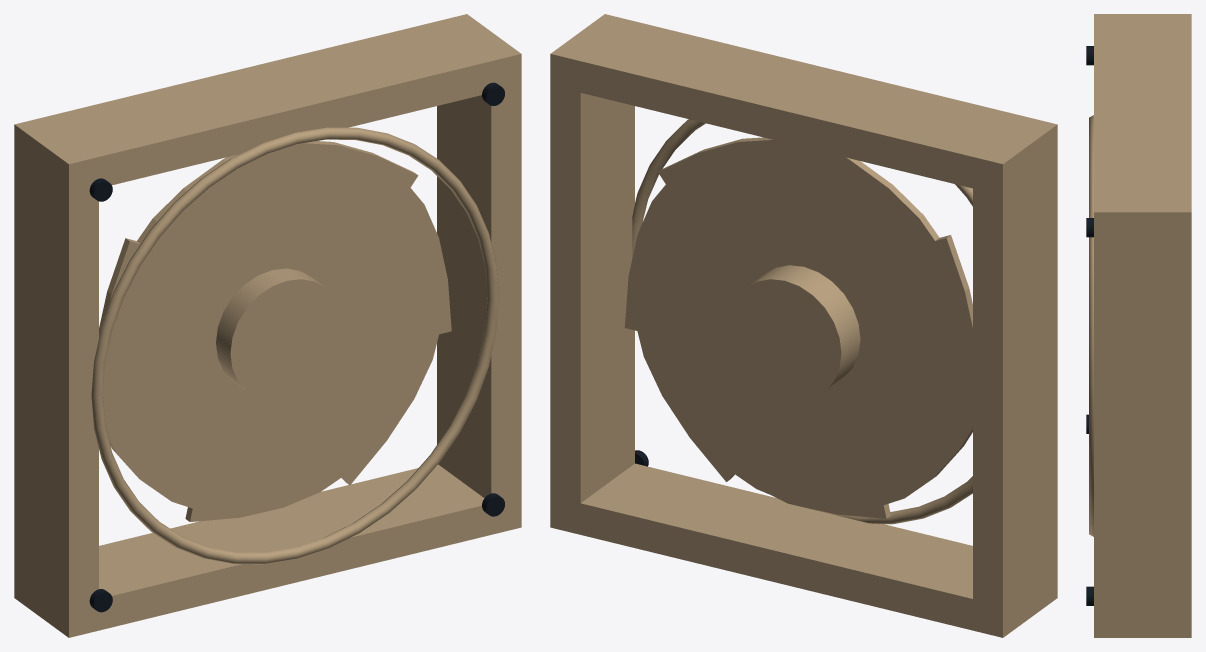
Rendered from retail-noctua-nf-a12x25-g2-pwm.glb.
3 renders of one model, left to right at view 1: azimuth 30°, elevation 25°; view 2: azimuth 150°, elevation 25°; view 3: azimuth 270°, elevation 25°, orthographic. The views are drawn at different scales.
Visible parts, largest first — view 1: Frame edge (×4), Blade (×7), Intake rim, Motor hub; view 2: Frame edge (×4), Blade (×7), Motor hub, Intake rim; view 3: Frame edge (×3), Intake rim.
Part boxes in pixels (x1,y1,x2,y2): Frame edge (×4): (14, 14, 521, 637); Blade (×7): (99, 141, 451, 521); Intake rim: (91, 127, 498, 564); Motor hub: (216, 268, 343, 400); Frame edge (×4): (550, 14, 1057, 637); Blade (×7): (624, 137, 972, 518); Motor hub: (728, 265, 860, 400); Intake rim: (632, 119, 972, 524); Frame edge (×3): (1094, 14, 1191, 637); Intake rim: (1089, 115, 1093, 536).
Bounding box in the file's own units: 0.12 × 0.12 × 0.027.
